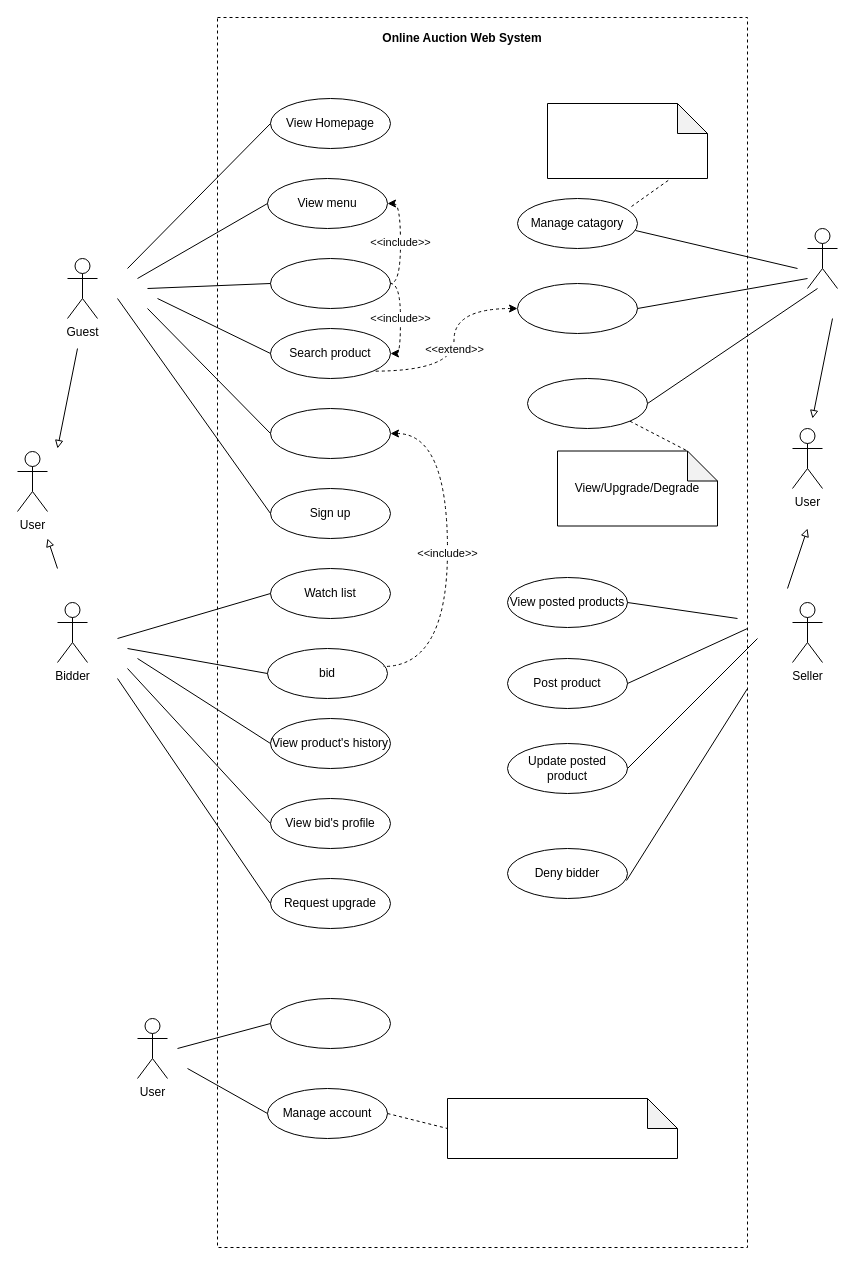
Image size: 858x1265. Some labels were removed from this diagram. Here are the shapes that lost their labels. From the top down, the centre of each, then its label:
At point (627, 140): "Add/Edit/Remove catagory".
At point (822, 258): "Admin".
At point (330, 283): "View product list".
At point (577, 308): "Delete product".
At point (587, 403): "Manage user".
At point (330, 433): "View product's details".
At point (330, 1023): "Login".
At point (562, 1128): "Update profile/change password".
